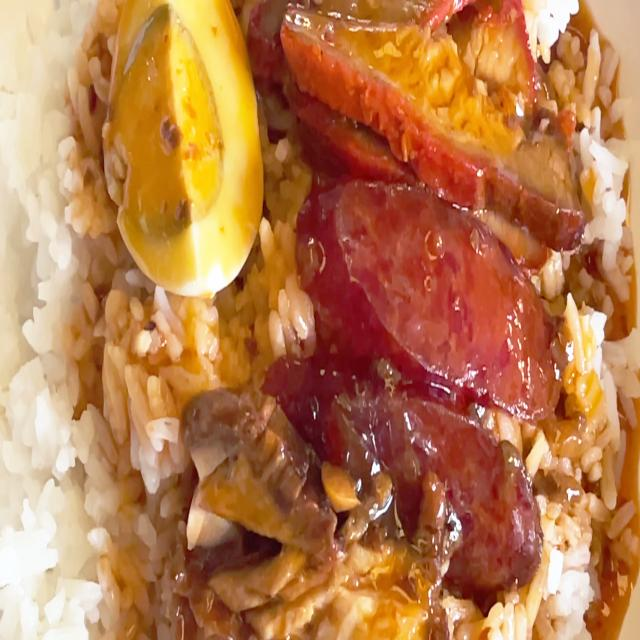boiled_egg: (112, 0, 255, 276)
chainese_sausage: (293, 175, 558, 570), (302, 189, 555, 393), (286, 355, 536, 555)
crispy_pork: (225, 549, 455, 640)
red_pork: (264, 0, 576, 232)
red_pork_and_crispy_pork: (0, 0, 640, 640)
rice: (0, 0, 117, 640), (99, 298, 177, 639)
